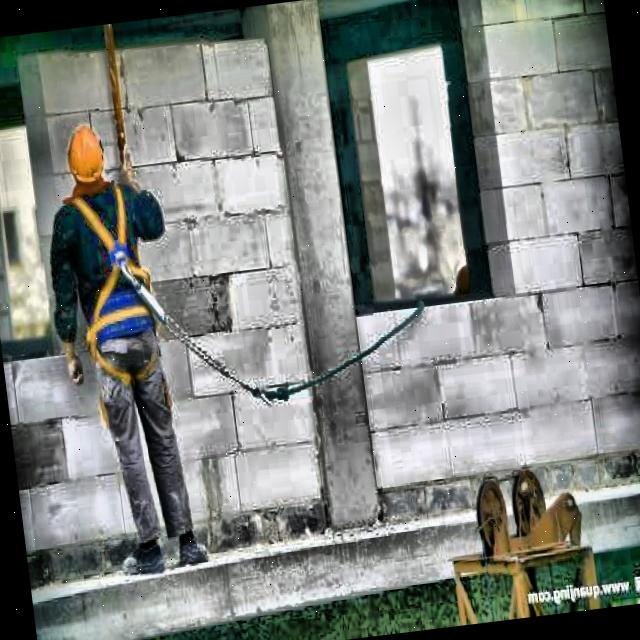helmet: (59, 115, 112, 199)
